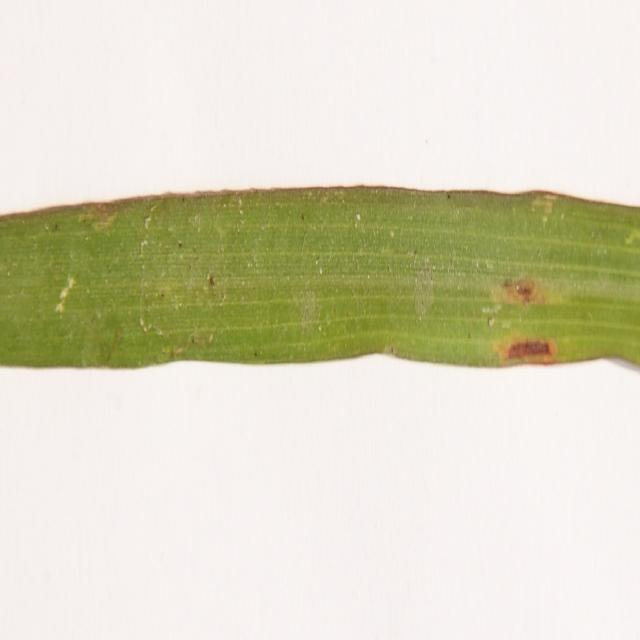Leafsmut: (412, 263, 436, 320), (86, 205, 123, 232), (102, 323, 125, 362), (202, 272, 226, 306), (508, 340, 551, 358), (56, 274, 77, 307), (141, 202, 162, 233), (186, 329, 216, 349), (505, 281, 532, 302), (244, 254, 265, 271), (164, 343, 186, 359), (472, 258, 496, 271), (630, 227, 640, 247), (64, 275, 76, 291), (207, 274, 216, 288), (542, 194, 558, 201), (194, 214, 202, 227), (55, 302, 64, 313), (354, 214, 361, 228), (144, 216, 152, 228), (138, 318, 146, 330), (488, 316, 496, 328), (141, 323, 150, 333), (386, 346, 396, 355), (154, 328, 164, 337), (51, 223, 59, 232), (44, 223, 52, 232), (190, 334, 197, 344), (410, 190, 420, 197), (542, 215, 548, 225), (141, 240, 148, 248), (307, 190, 314, 198), (238, 198, 244, 207), (159, 292, 165, 300), (446, 192, 452, 200), (389, 230, 395, 238), (424, 256, 430, 264), (559, 212, 565, 220), (412, 248, 418, 255), (300, 213, 305, 221), (177, 302, 183, 308), (253, 351, 259, 357), (83, 236, 89, 242), (181, 197, 187, 203), (314, 256, 319, 263), (177, 241, 182, 247), (239, 208, 244, 214), (247, 262, 252, 268), (366, 274, 371, 279), (318, 326, 322, 332), (319, 268, 323, 274), (432, 264, 436, 270), (86, 288, 90, 294), (7, 272, 11, 276)
